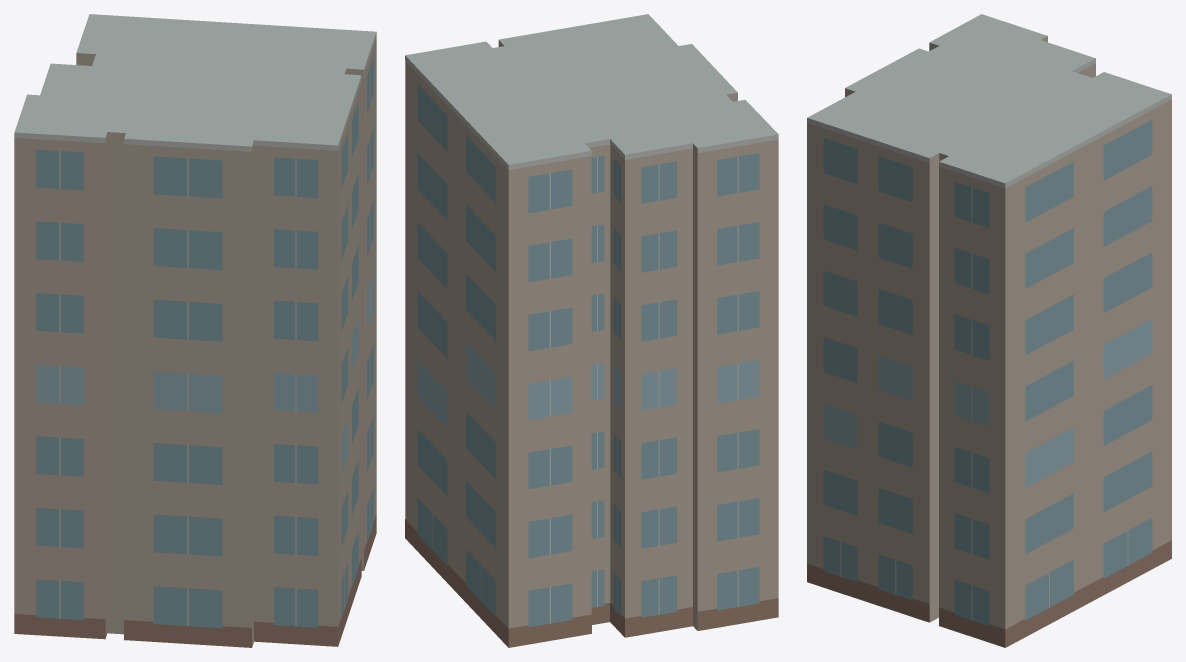
File: survey-upis-32625899.glb
The picture shows the model from 3 angles, left to right: view 1: azimuth 30°, elevation 25°; view 2: azimuth 150°, elevation 25°; view 3: azimuth 270°, elevation 25°; orthographic projection. The views are drawn at different scales.
Parts seen in each view (by area): view 1: survey-upis-32625899.tmp; view 2: survey-upis-32625899.tmp; view 3: survey-upis-32625899.tmp.
Part boxes in pixels (x1,y1,x2,y2): survey-upis-32625899.tmp: [14, 14, 376, 647]; survey-upis-32625899.tmp: [405, 14, 778, 647]; survey-upis-32625899.tmp: [807, 14, 1171, 647].
Size of the model in its own units: 17.78 by 22.7 by 16.17.
